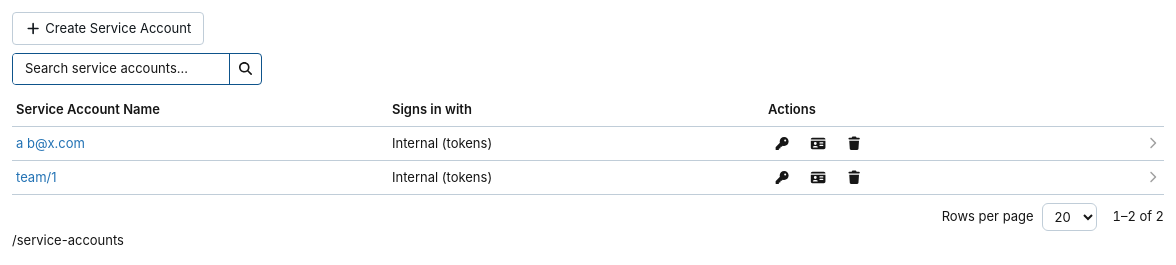
Test: ServiceAccountsPage › row navigation › navigates when the row is clicked
Expected: the row "team/1" is shown, [12,161,1164,195]
Click the cell "Internal (tokens)" in the row of "team/1" at (442, 177), box [392,169,492,185]
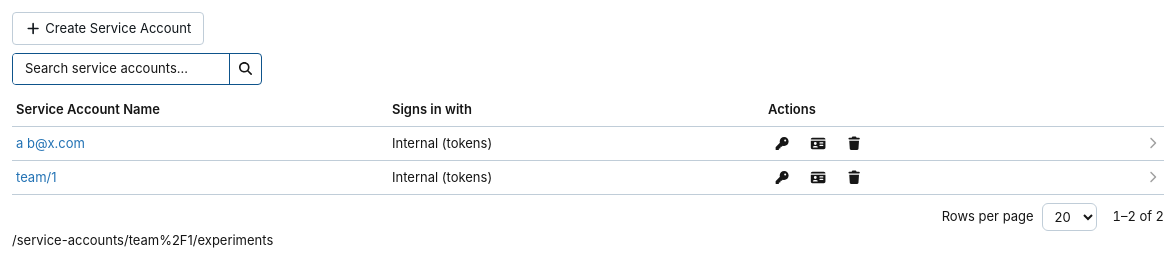
Expected: the text with test id "location" reads "/service-accounts/team%2F1/experiments", [12,232,273,248]
